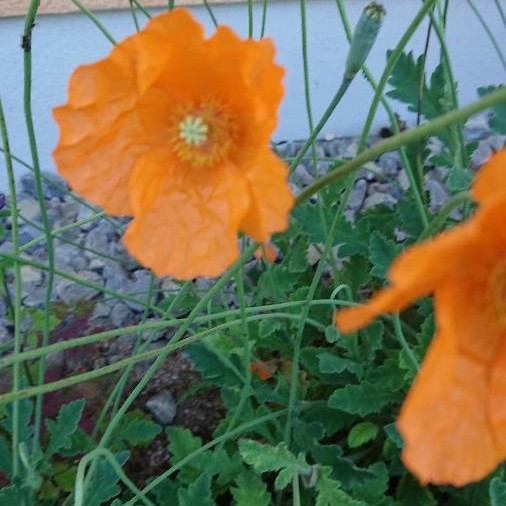obstacle: (61, 16, 336, 262)
